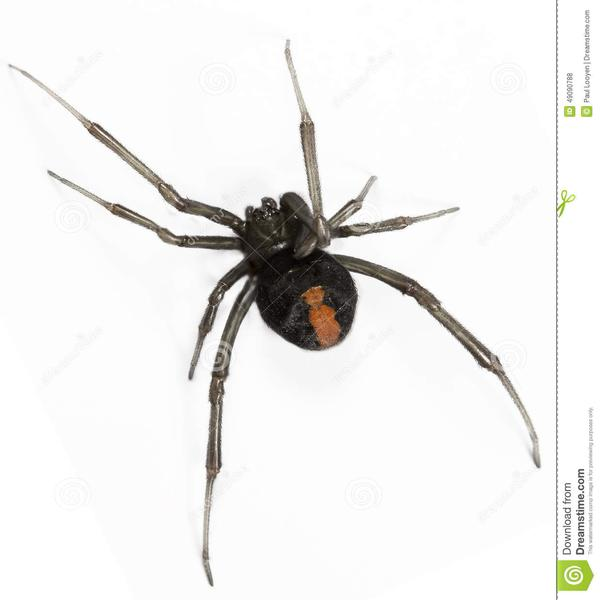Redback Spider: (22, 47, 540, 571)
